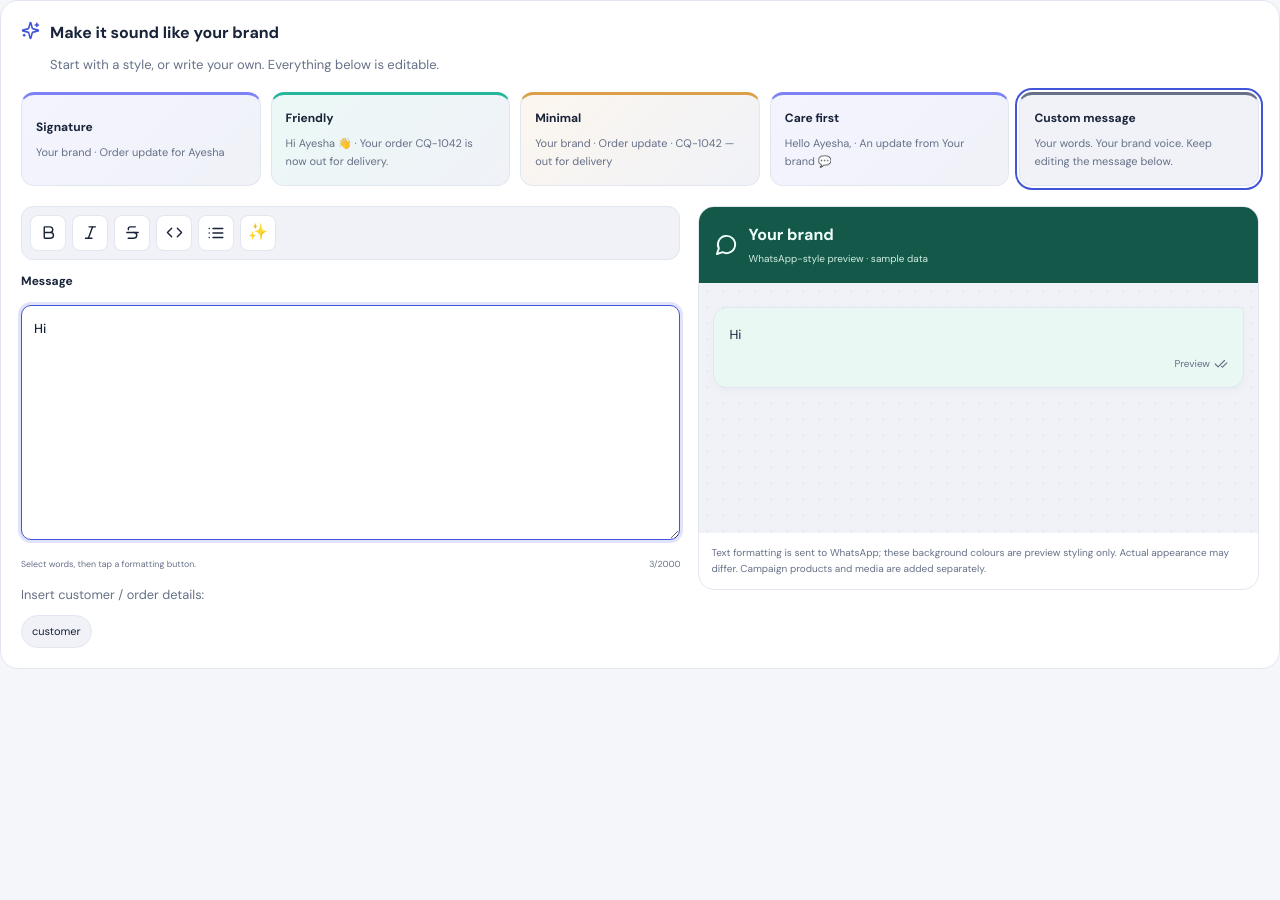
inserts placeholders at the cursor without submitting a form
Click the button "customer": coordinates (56, 632) [21,615,92,648]
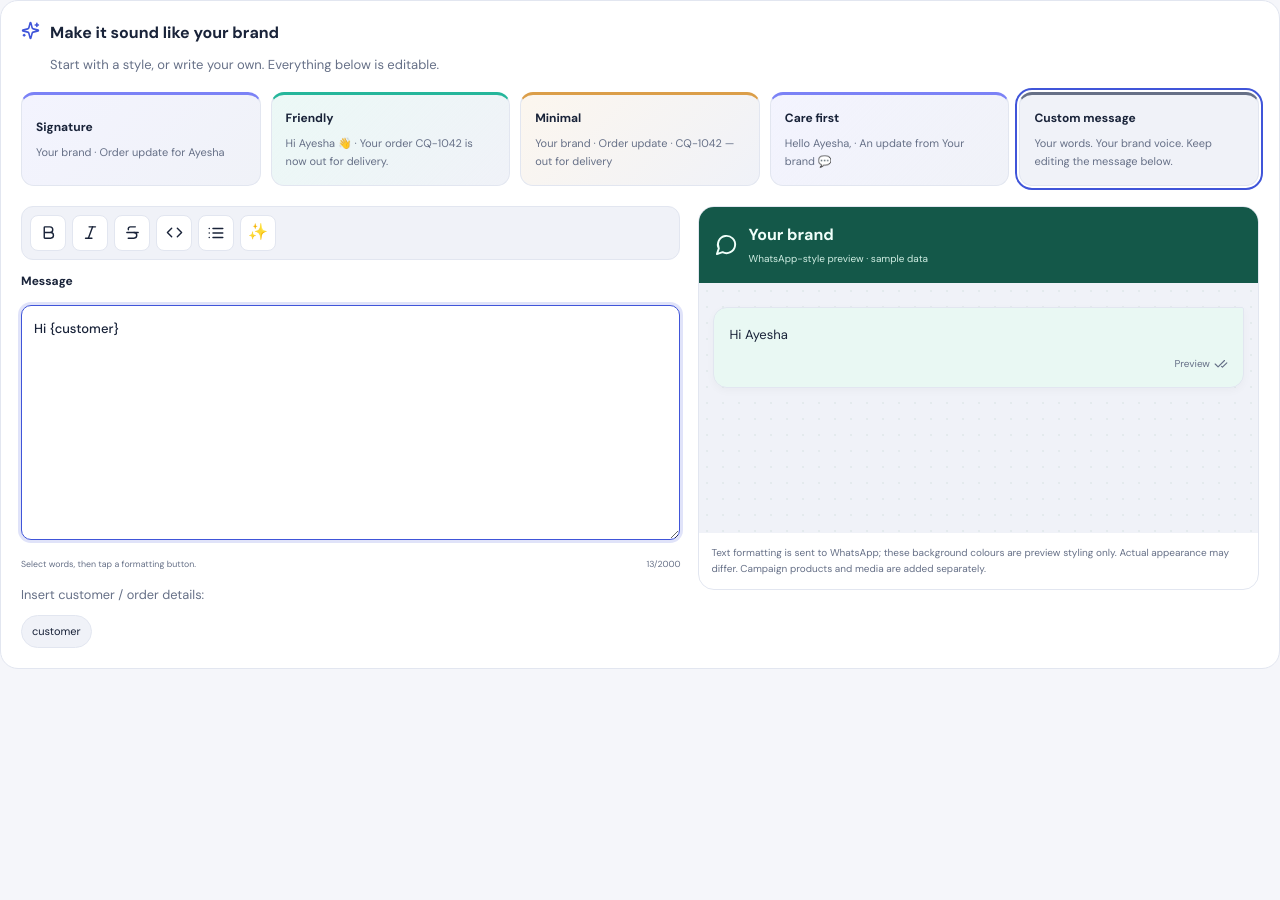
Expected: the text box labelled "Message" holds "Hi {customer}", [21,305,680,540]
